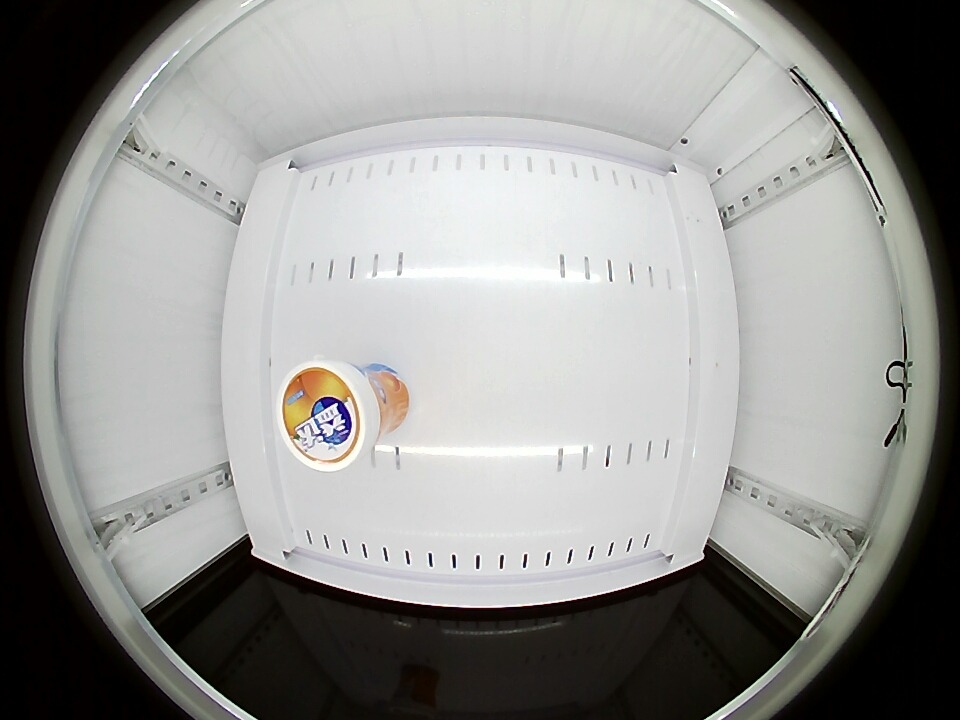yida: (278, 359, 383, 472)
